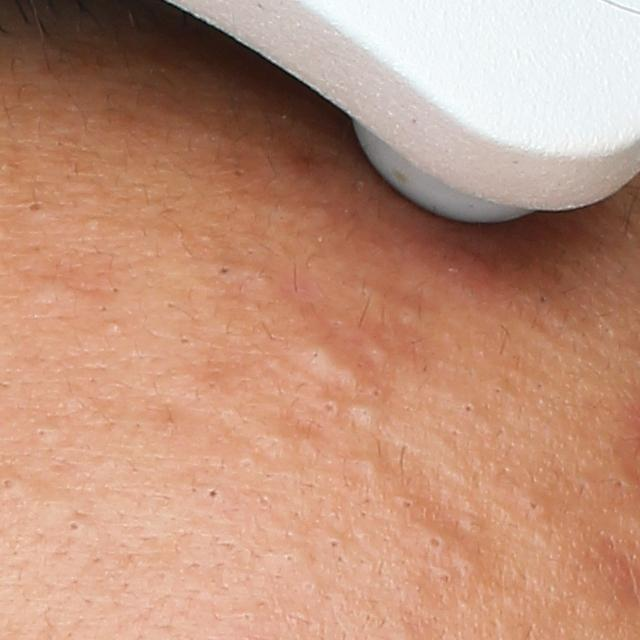comedo: (297, 339, 338, 379), (345, 448, 387, 481), (33, 423, 61, 449), (20, 195, 48, 216), (424, 528, 445, 554), (318, 398, 342, 419), (104, 321, 127, 338), (66, 517, 86, 535), (213, 261, 233, 279), (203, 485, 221, 503), (323, 533, 342, 550), (460, 401, 479, 417), (398, 497, 417, 512), (367, 385, 386, 400)
